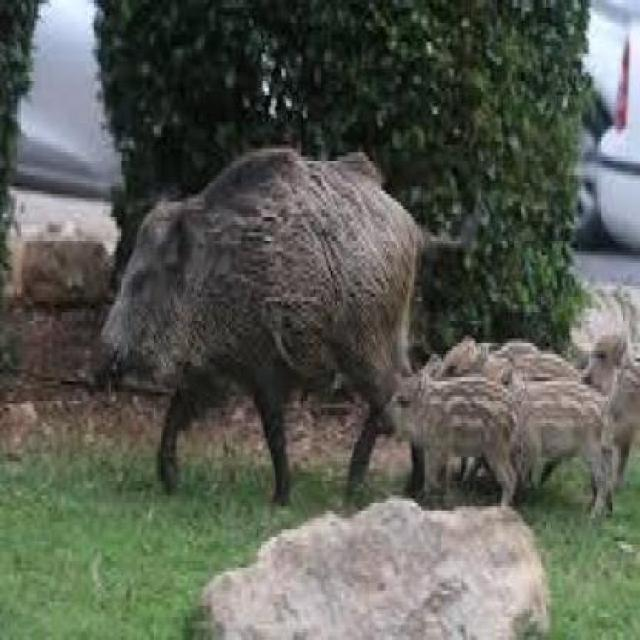wildboar: (84, 141, 478, 519), (429, 322, 591, 524), (482, 368, 626, 517), (380, 367, 522, 516), (575, 320, 640, 511)
